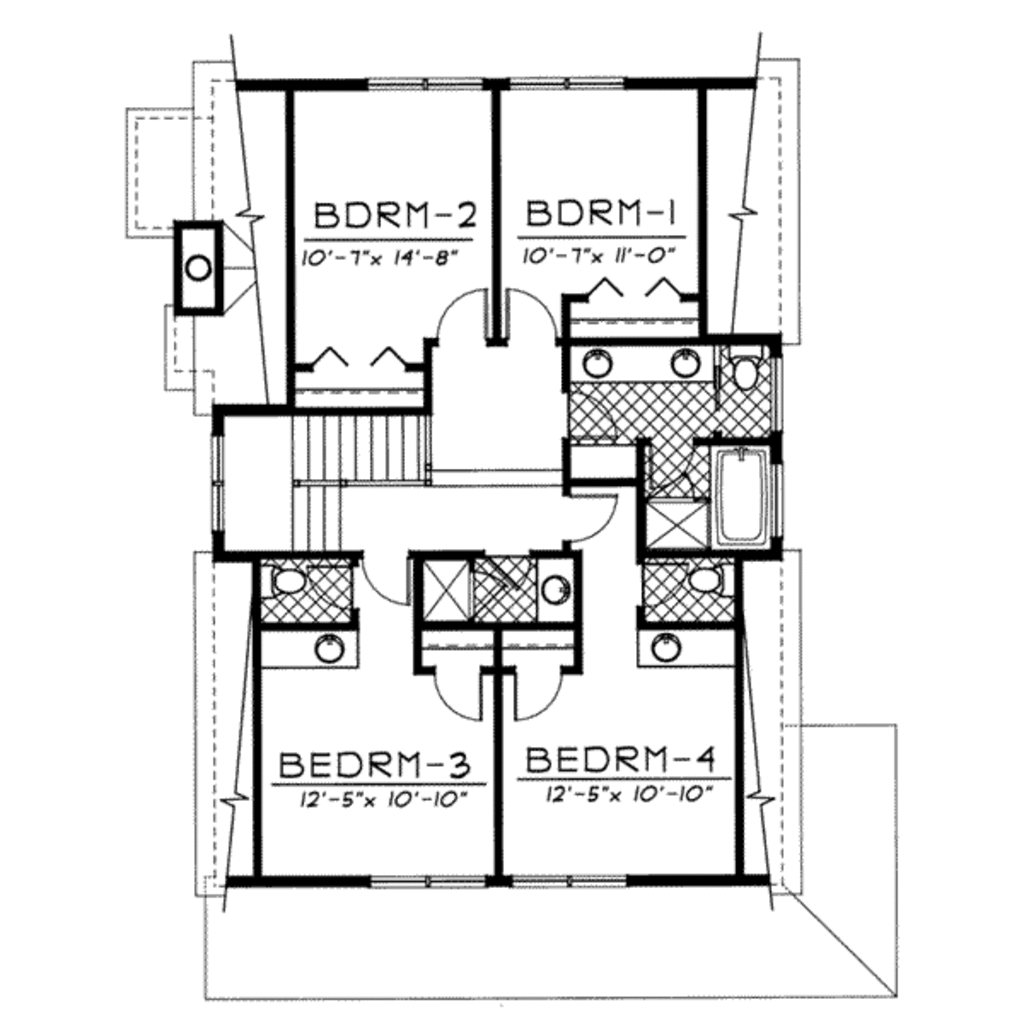door: (426, 278, 510, 346), (502, 658, 569, 727), (499, 278, 558, 352), (559, 492, 626, 551), (429, 657, 488, 724), (353, 552, 413, 609)
large_sink: (721, 339, 767, 393), (685, 560, 736, 603), (253, 560, 304, 601)
small_sink: (567, 344, 720, 392), (264, 628, 353, 670), (637, 627, 729, 663)
stairs: (221, 405, 435, 548)
tub: (707, 443, 783, 546)
window: (366, 70, 488, 97), (498, 68, 623, 93), (510, 868, 629, 893), (369, 871, 480, 893)
